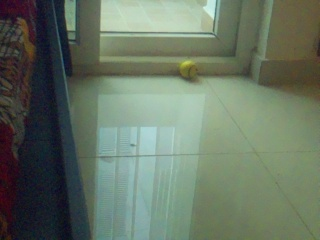ball: (179, 61, 197, 78)
